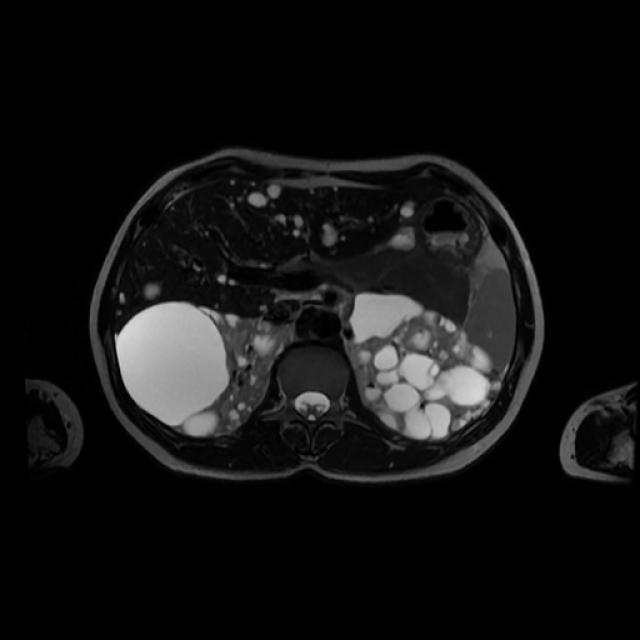sag: (117, 299, 291, 436)
sol: (350, 291, 503, 438)
